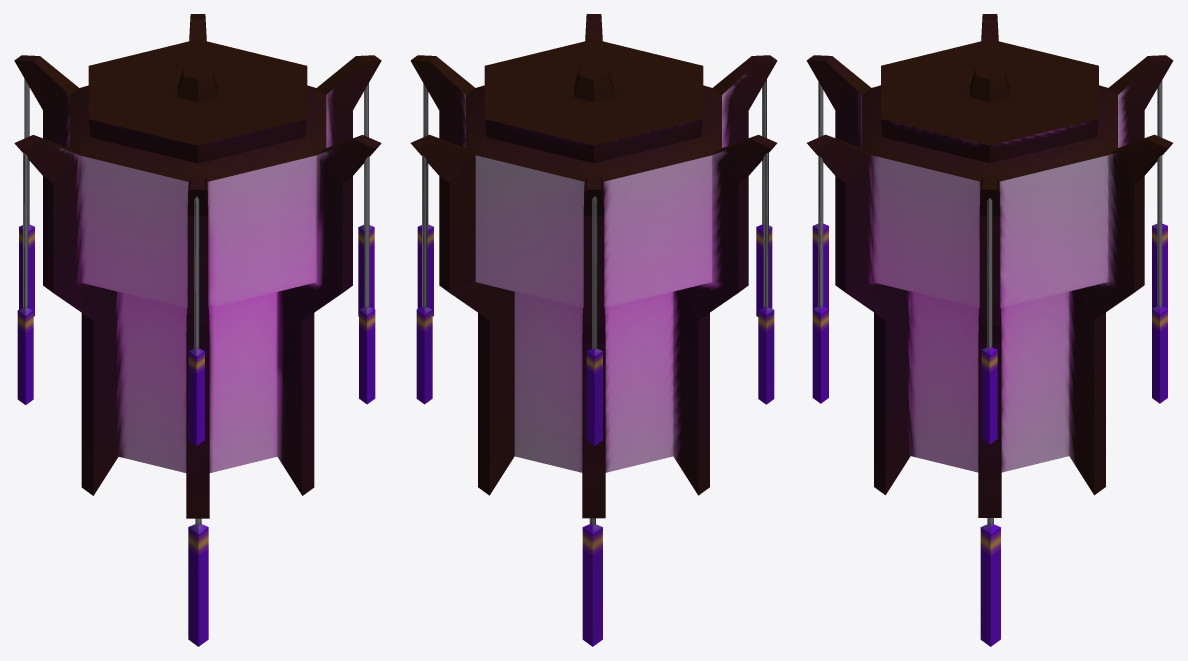
File: Garden_Spirit_Lantern.FBX
3 renders of one model, left to right at view 1: azimuth 30°, elevation 25°; view 2: azimuth 150°, elevation 25°; view 3: azimuth 270°, elevation 25°, orthographic.
Visible parts, largest first — view 1: Garden_Spirit_Lantern; view 2: Garden_Spirit_Lantern; view 3: Garden_Spirit_Lantern.
Part boxes in pixels (bbox=[...]): Garden_Spirit_Lantern: bbox=[14, 14, 381, 646]; Garden_Spirit_Lantern: bbox=[410, 14, 777, 646]; Garden_Spirit_Lantern: bbox=[806, 14, 1173, 646].
Size of the model in its own units: 14.02 by 21.21 by 12.39.
